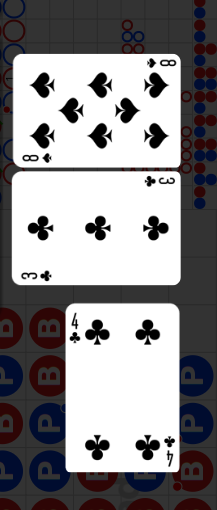4C: (68, 311, 83, 346), (162, 433, 176, 468)
8S: (144, 57, 177, 70)
